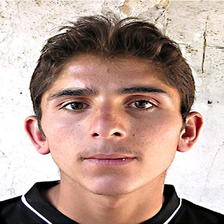no_mask: (38, 59, 181, 193)
